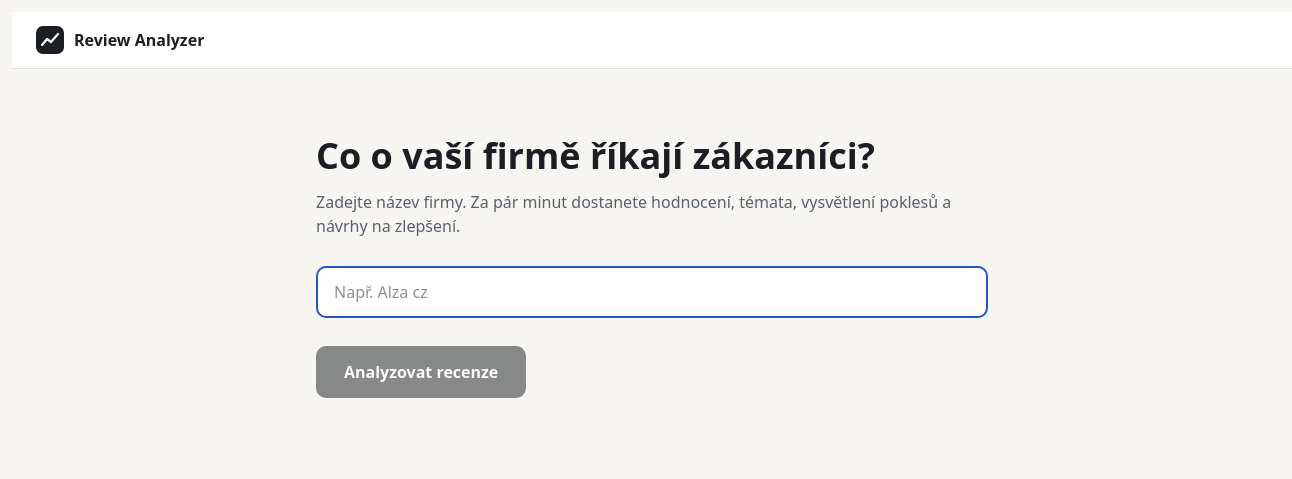
it: choosing one Place › starts a Run for that Place only and opens its progress
Type "kav" into the search field.
click(652, 292); type("kav")  # box 316,266 -> 988,318
Wait 400 ms
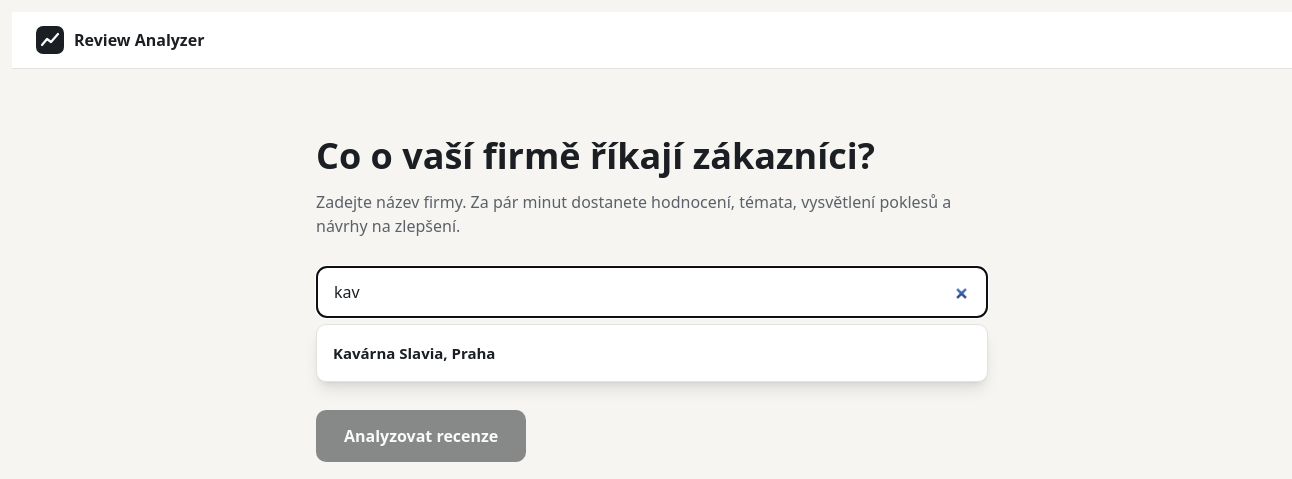
Click the button "Kavárna Slavia, Praha".
click(414, 353)  # box 317,325 -> 987,381
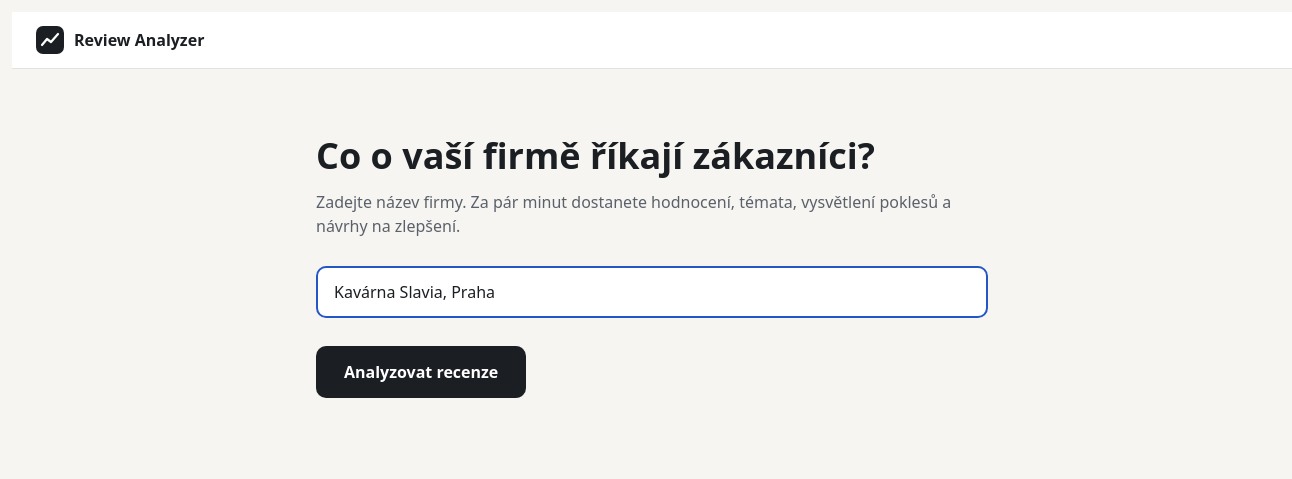
Click the button "Analyzovat recenze".
click(421, 372)  # box 316,346 -> 526,398
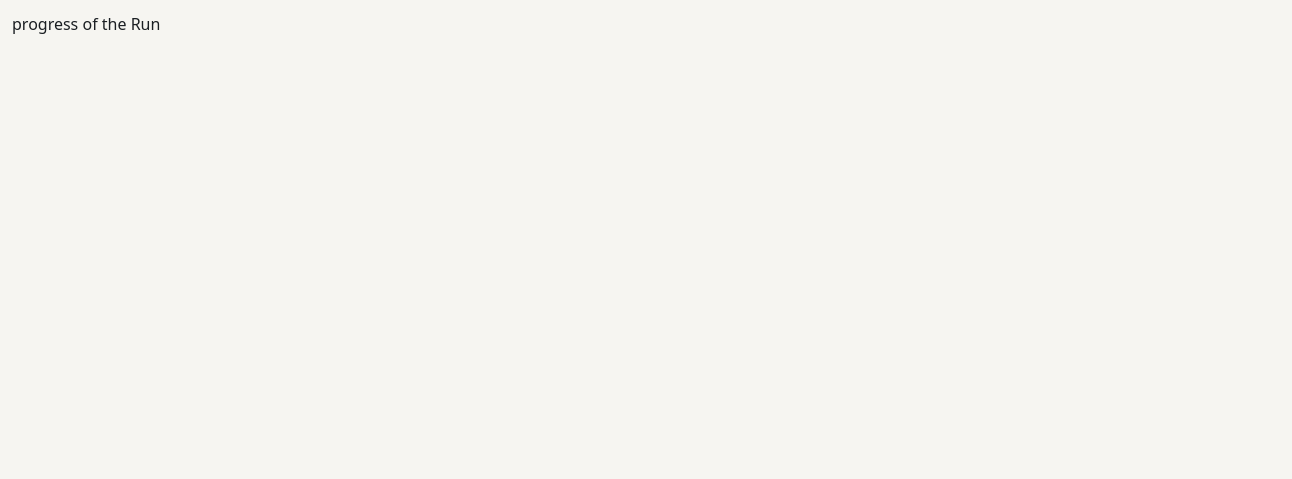
Result: the text "progress of the Run" is shown at 12,13 -> 160,35
